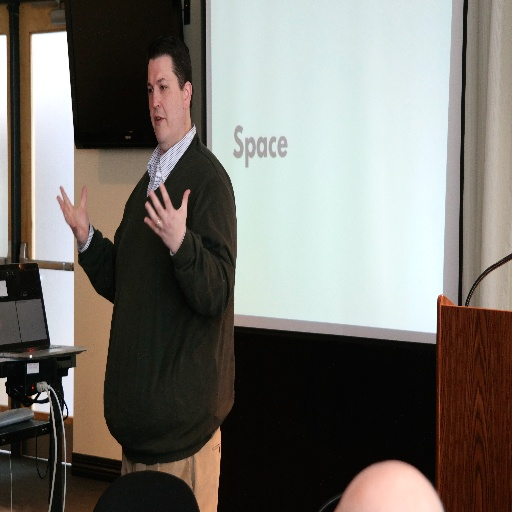hand: (141, 177, 190, 253), (55, 182, 90, 249)
